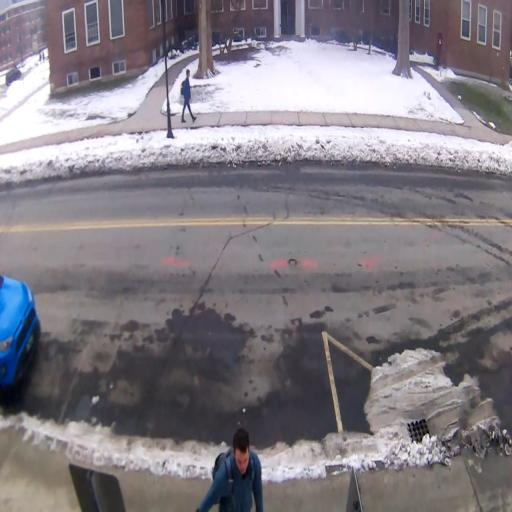pessoa: (185, 426, 271, 512), (178, 66, 197, 123)
